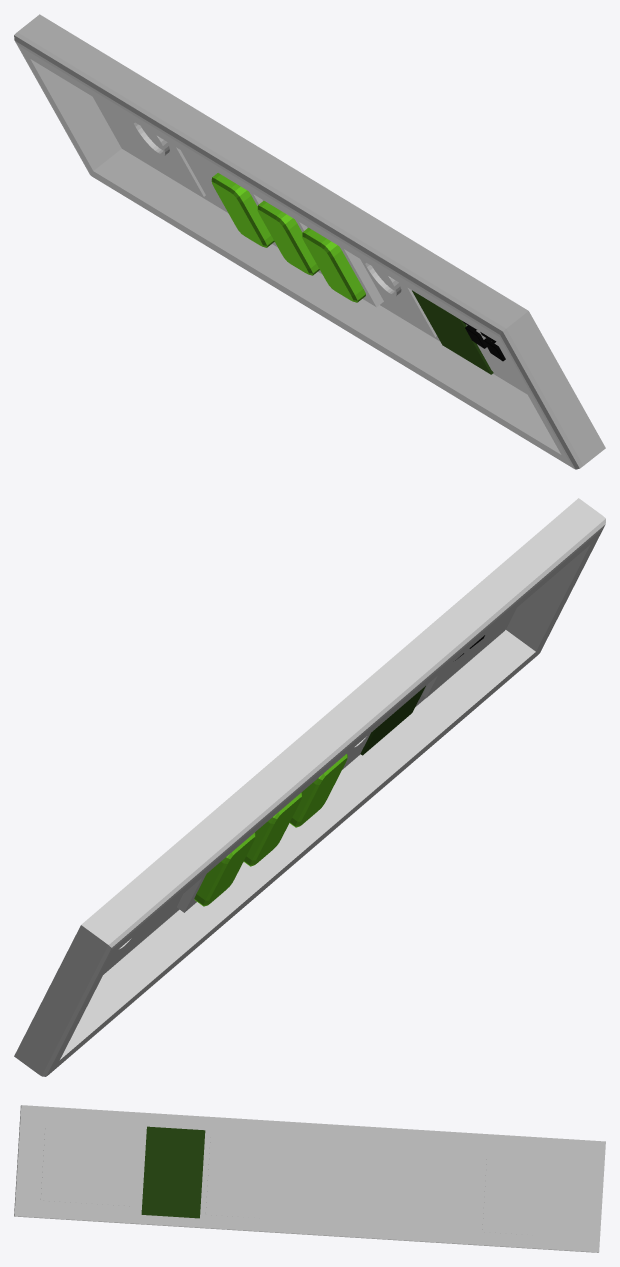
The model's file is MedPanel1.fbx.
The picture shows the model from 3 angles, top to bottom: view 1: azimuth 30°, elevation 25°; view 2: azimuth 150°, elevation 25°; view 3: azimuth 270°, elevation 25°; orthographic projection. The views are drawn at different scales.
Visible parts, largest first — view 1: Cube (×7); view 2: Cube (×5); view 3: Cube (×4).
Boxes of the visible parts, box(x1,y1,x2,y2) form: Cube (×7): box(14, 14, 605, 469); Cube (×5): box(14, 498, 605, 1076); Cube (×4): box(14, 1105, 605, 1252).
Size of the model in its own units: 10.31 by 22.41 by 88.76.
